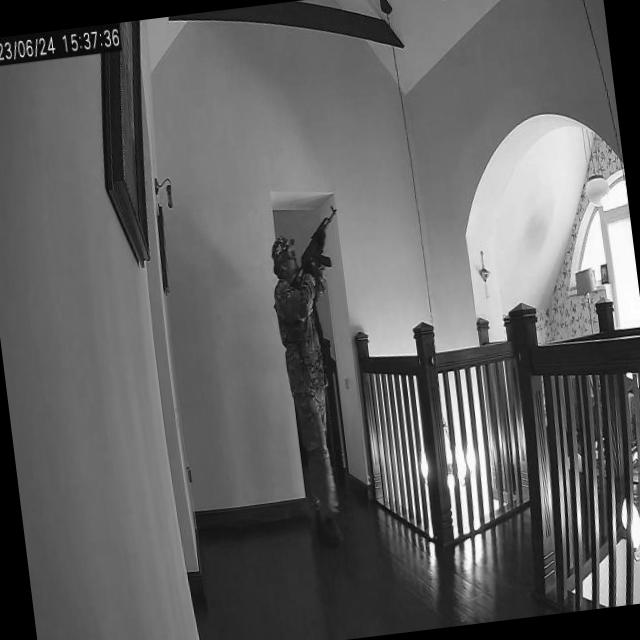gun: (288, 202, 346, 277)
person with a gun: (262, 198, 374, 552)
